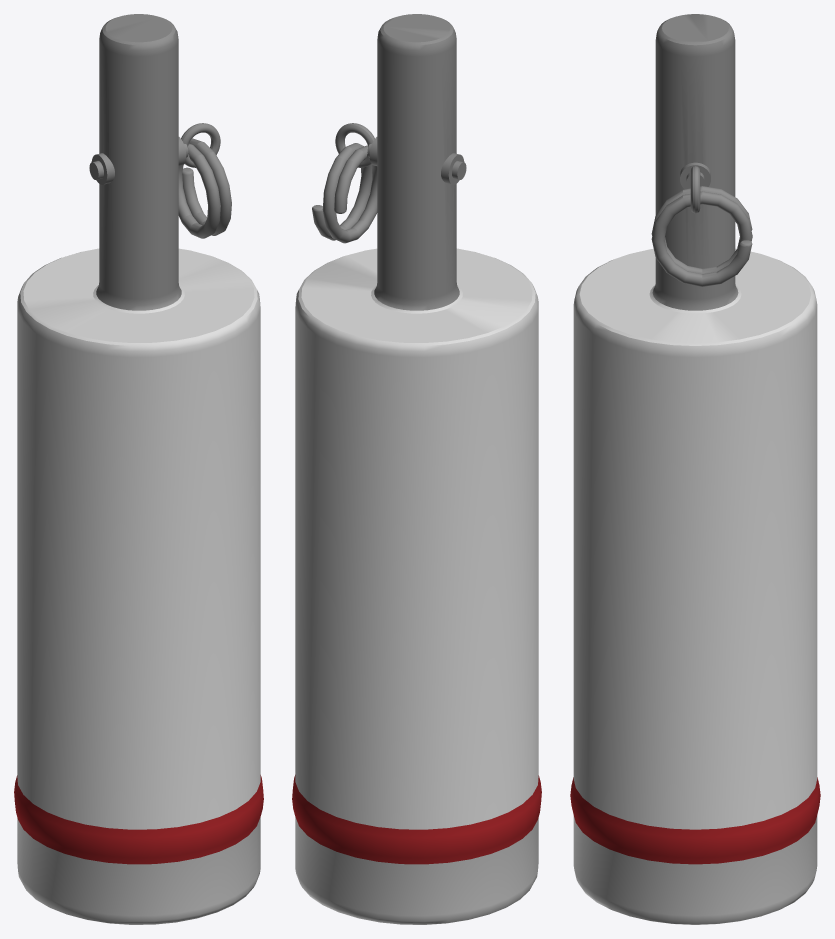
The model's file is GranadaModelo.fbx.
3 views of the same model, side by side, from view 1: azimuth 30°, elevation 25°; view 2: azimuth 150°, elevation 25°; view 3: azimuth 270°, elevation 25° (orthographic).
Visible parts, largest first — view 1: Cuerpo; view 2: Cuerpo; view 3: Cuerpo.
Boxes of the visible parts, x1,y1,x2,y2 form: Cuerpo: [14, 14, 263, 924]; Cuerpo: [292, 14, 541, 924]; Cuerpo: [570, 14, 820, 924].
Bounding box in the file's own units: 205 × 205 × 767.
